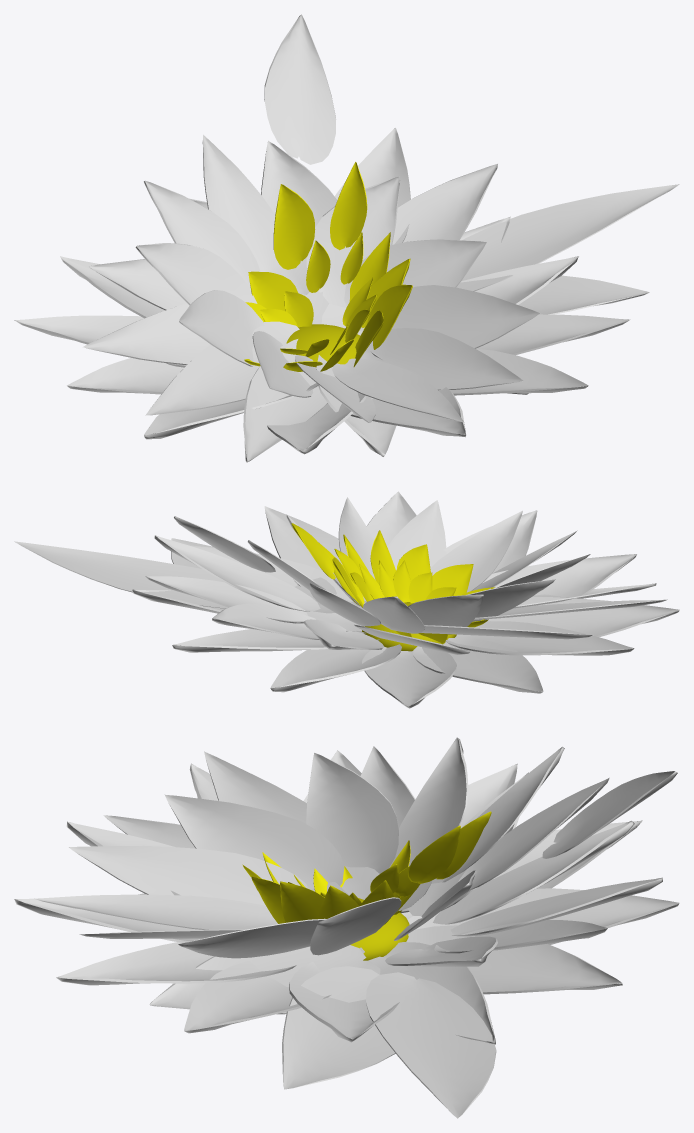
The model's file is Flower.fbx.
3 views of the same model, one above another, from view 1: azimuth 30°, elevation 25°; view 2: azimuth 150°, elevation 25°; view 3: azimuth 270°, elevation 25° (orthographic). The views are drawn at different scales.
Visible parts, largest first — view 1: pCube20 (×4), pCube17 (×4), pCube16 (×5), pCube14 (×3), pCube25 (×3), pCube23 (×3), pCube19 (×4), pCube24 (×3), pCube18 (×3), pCube22 (×2), pCube28, pCube27 (+5 smaller); view 2: pCube18 (×4), pCube17 (×4), pCube16 (×4), pCube20 (×3), pCube14 (×3), pCube19 (×4), pCube24 (×3), pCube27 (×2), pCube15, pCube28 (×3), pCube23 (×4), pCube22 (×2) (+5 smaller); view 3: pCube20 (×4), pCube16 (×5), pCube19 (×4), pCube17 (×4), pCube23 (×3), pCube18 (×4), pCube14 (×2), pCube26, pCube22 (×2), pCube27, pCube25 (×2), pCube21 (+5 smaller).
Part boxes in pixels (x1=…): pCube20 (×4): x1=344, y1=184, x2=679, y2=331; pCube17 (×4): x1=202, y1=135, x2=465, y2=456; pCube16 (×5): x1=60, y1=180, x2=588, y2=395; pCube14 (×3): x1=67, y1=290, x2=264, y2=394; pCube25 (×3): x1=264, y1=14, x2=367, y2=284; pCube23 (×3): x1=366, y1=275, x2=649, y2=349; pCube19 (×4): x1=144, y1=217, x2=510, y2=439; pCube24 (×3): x1=306, y1=164, x2=497, y2=307; pCube18 (×3): x1=243, y1=128, x2=410, y2=462; pCube22 (×2): x1=88, y1=243, x2=257, y2=310; pCube28: x1=360, y1=328, x2=523, y2=390; pCube27: x1=332, y1=358, x2=463, y2=421; pCube18 (×4): x1=145, y1=554, x2=656, y2=652; pCube17 (×4): x1=212, y1=510, x2=537, y2=692; pCube16 (×4): x1=304, y1=491, x2=456, y2=708; pCube20 (×3): x1=14, y1=541, x2=397, y2=631; pCube14 (×3): x1=420, y1=579, x2=634, y2=655; pCube19 (×4): x1=132, y1=554, x2=679, y2=637; pCube24 (×3): x1=154, y1=535, x2=364, y2=611; pCube27 (×2): x1=430, y1=510, x2=522, y2=595; pCube15: x1=413, y1=637, x2=543, y2=693; pCube28 (×3): x1=387, y1=500, x2=446, y2=603; pCube23 (×4): x1=171, y1=497, x2=410, y2=604; pCube22 (×2): x1=354, y1=594, x2=483, y2=654; pCube20 (×4): x1=289, y1=885, x2=496, y2=1118; pCube16 (×5): x1=56, y1=746, x2=642, y2=1014; pCube19 (×4): x1=165, y1=751, x2=495, y2=1044; pCube17 (×4): x1=14, y1=777, x2=679, y2=944; pCube23 (×3): x1=178, y1=881, x2=395, y2=1089; pCube18 (×4): x1=66, y1=815, x2=622, y2=994; pCube14 (×2): x1=306, y1=746, x2=432, y2=910; pCube26: x1=68, y1=845, x2=308, y2=905; pCube22 (×2): x1=389, y1=737, x2=528, y2=916; pCube27: x1=34, y1=894, x2=277, y2=929; pCube25 (×2): x1=407, y1=771, x2=677, y2=883; pCube21: x1=184, y1=960, x2=330, y2=1033.
Bounding box in the file's own units: 2.08 × 0.6787 × 1.59.
